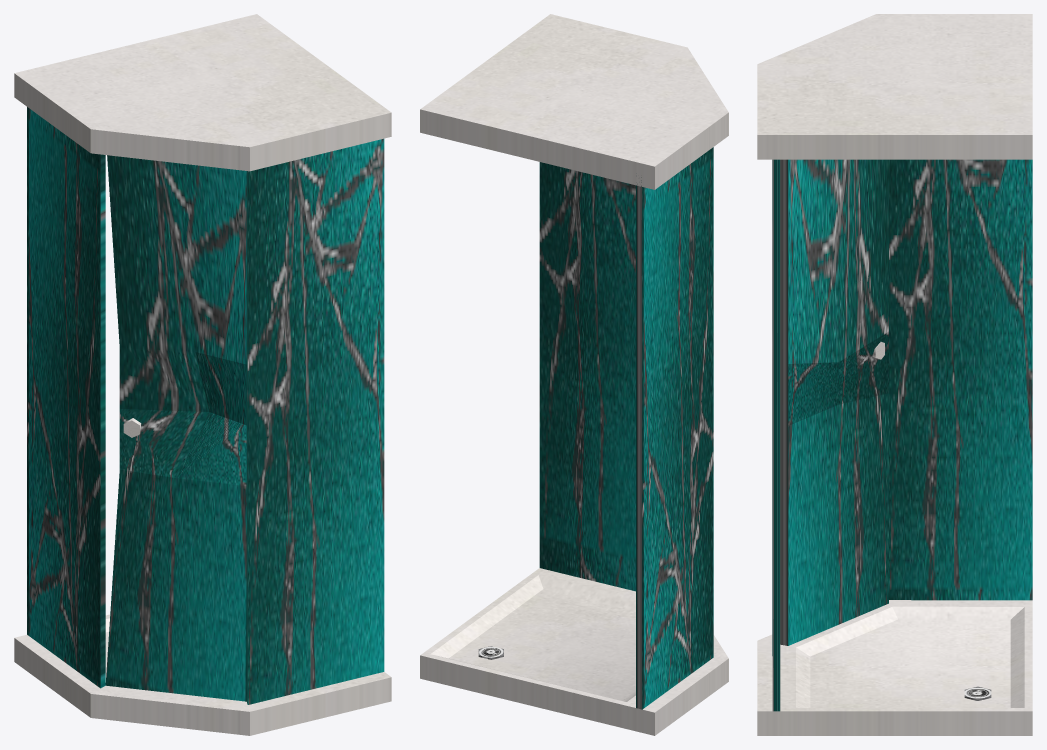
Rendered from shower.FBX.
3 renders of one model, left to right at view 1: azimuth 30°, elevation 25°; view 2: azimuth 150°, elevation 25°; view 3: azimuth 270°, elevation 25°, orthographic. The views are drawn at different scales.
Parts seen in each view (by area): view 1: Object005, Object004, Object002, Box001; view 2: Object005, Object002, Box001; view 3: Object005, Object004, Object002, Box001.
Part boxes in pixels (x1,y1,x2,y2): Object005: [27, 107, 384, 704]; Object004: [105, 155, 246, 701]; Object002: [14, 14, 391, 171]; Box001: [14, 614, 391, 735]; Object005: [539, 147, 713, 709]; Object002: [420, 14, 728, 189]; Box001: [420, 568, 728, 735]; Object005: [772, 159, 1032, 711]; Object004: [780, 159, 888, 645]; Object002: [757, 14, 1032, 159]; Box001: [757, 600, 1032, 735].
Bounding box in the file's own units: 85.46 × 198 × 82.2.
3 materials, 3 textured.
